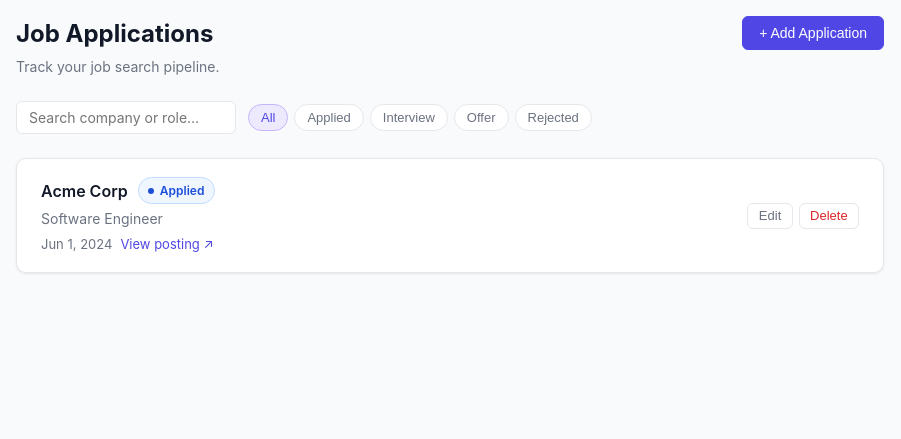
Test: ApplicationListView › shows empty filtered state when no results match filter
Click the button with class "filter-btn" showing "Rejected" at (553, 118), box [514,104,592,131]
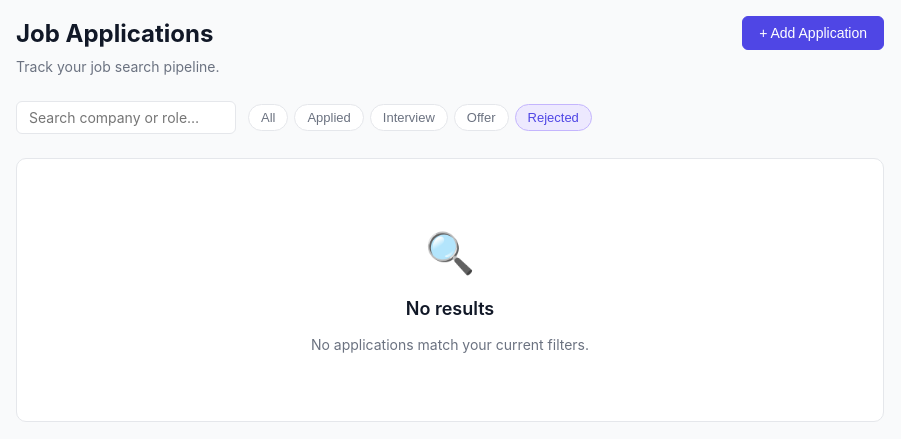
Expected: the text "No results" is shown, [406,295,494,322]
